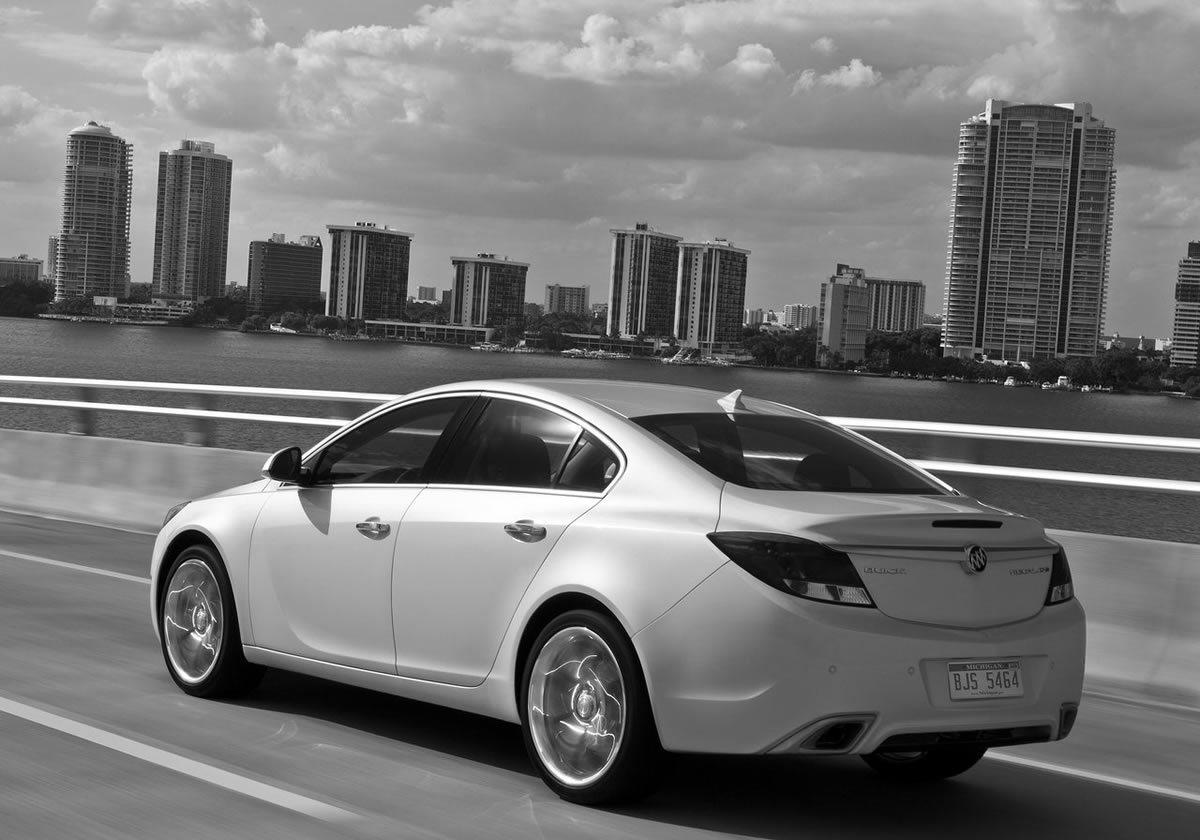car: (152, 377, 1087, 803)
